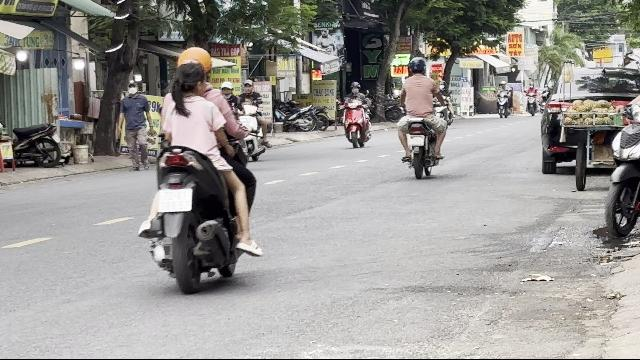helmet: (174, 47, 213, 76), (407, 56, 427, 75)
licenseplate: (157, 189, 190, 211), (408, 134, 424, 146)
motorcyclist: (139, 46, 261, 292), (394, 56, 448, 178)
nohelmet: (172, 62, 208, 98)
